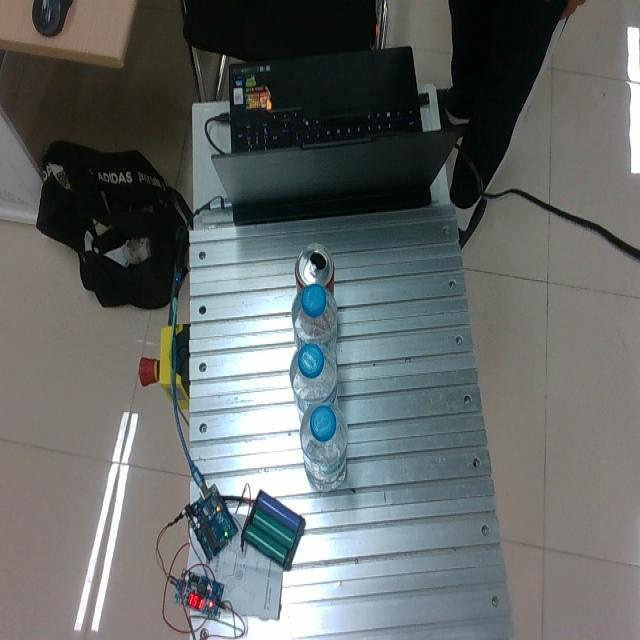coca: (294, 243, 336, 296)
lavie: (299, 398, 349, 490), (290, 341, 339, 412), (291, 282, 338, 350)
